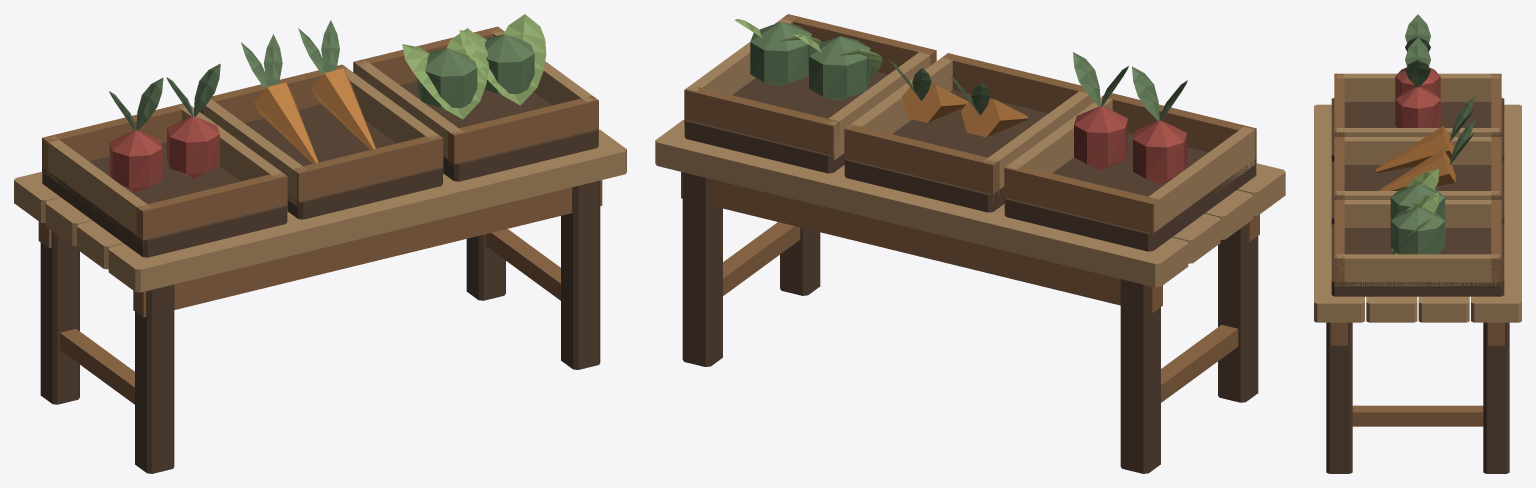
Rendered from table_produce.glb.
The picture shows the model from 3 angles, left to right: view 1: azimuth 30°, elevation 25°; view 2: azimuth 150°, elevation 25°; view 3: azimuth 270°, elevation 25°; orthographic projection. The views are drawn at different scales.
Visible parts, largest first — view 1: geometry; view 2: geometry; view 3: geometry.
Part boxes in pixels (box(x1,y1,x2,y2)): geometry: box(14, 14, 626, 473); geometry: box(655, 14, 1285, 473); geometry: box(1314, 14, 1521, 473).
Size of the model in its own units: 1.8 by 1.19 by 0.794.
